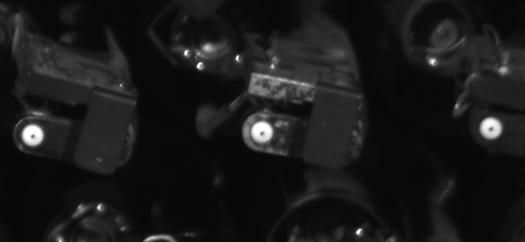fiber: (475, 108, 506, 148), (245, 118, 277, 151), (21, 122, 50, 152)
